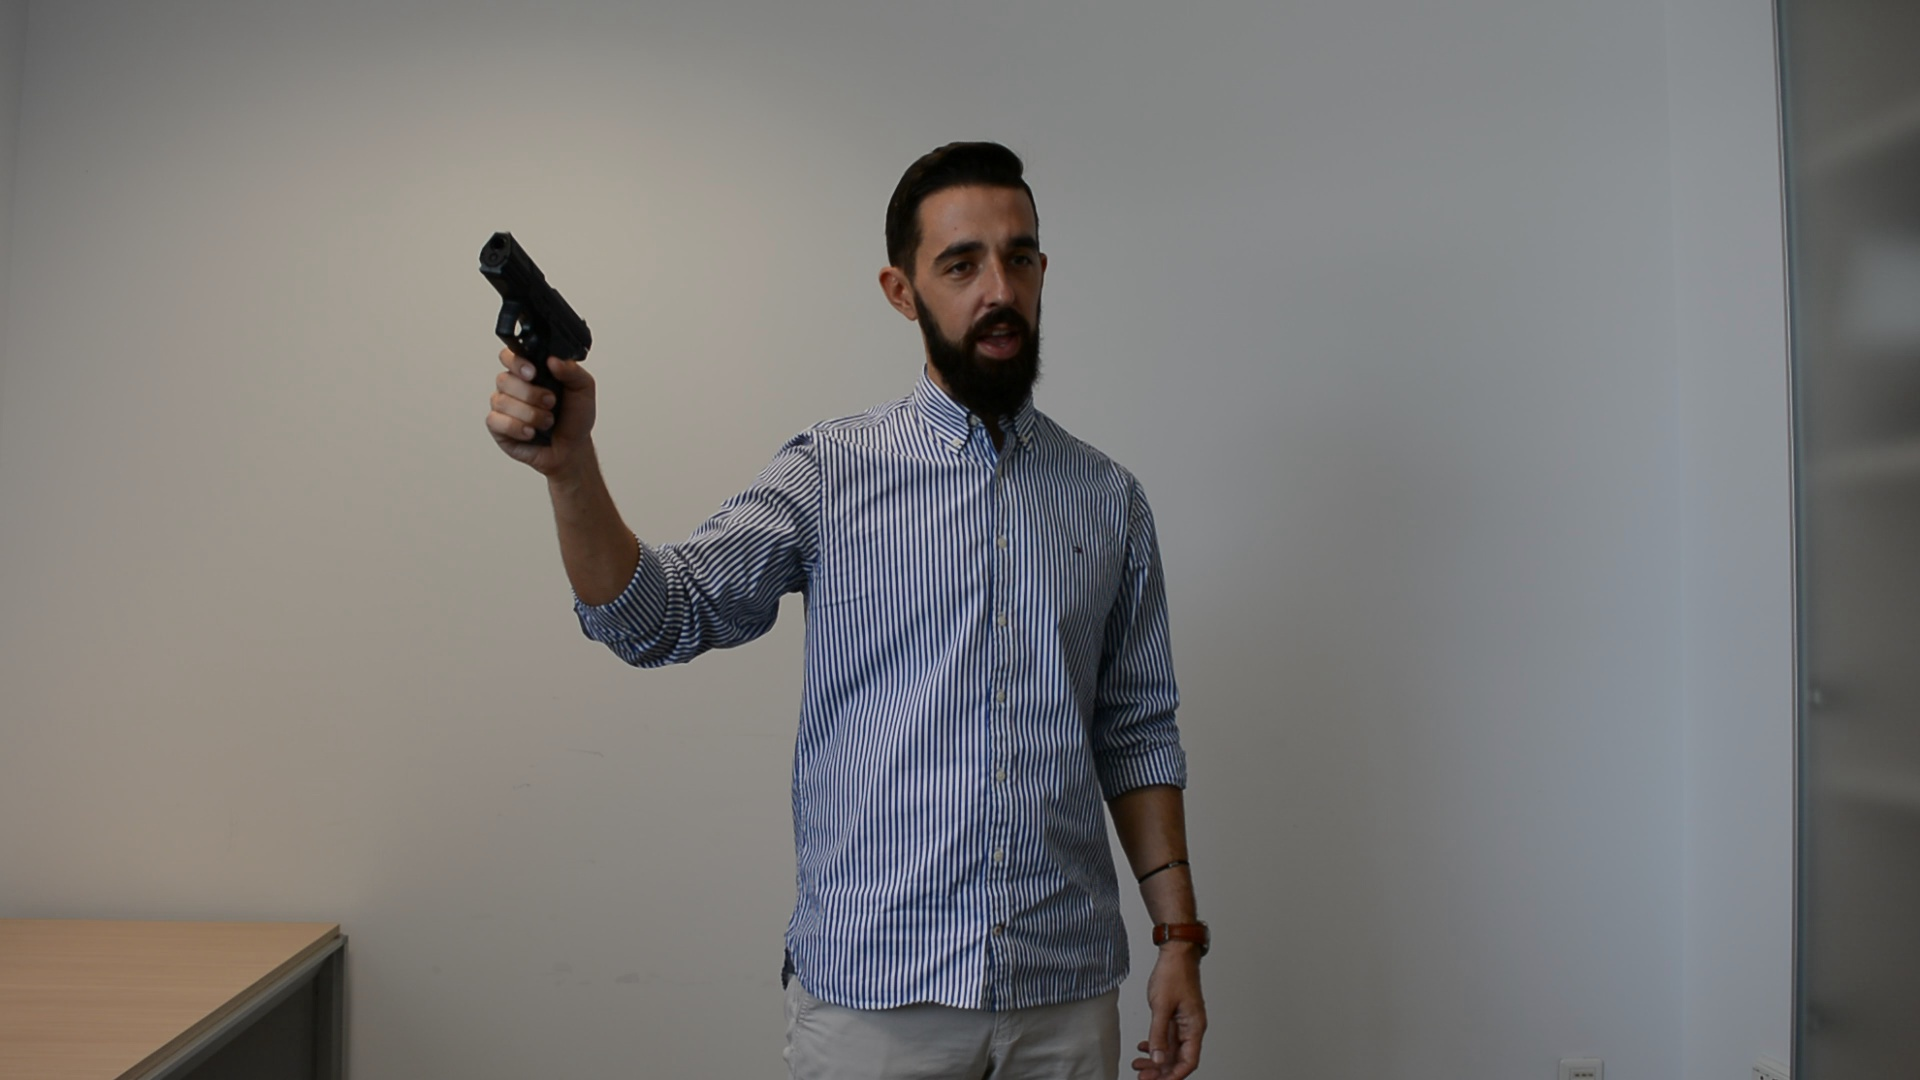pistol: (477, 228, 595, 450)
